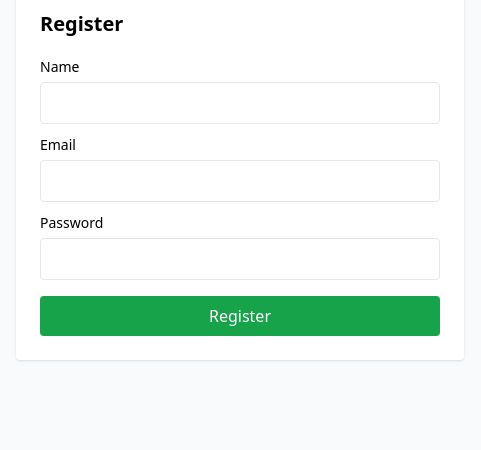
Register form validation › shows validation errors when fields are empty
Click the button "Register" at [240, 316], box [40,296,440,336]
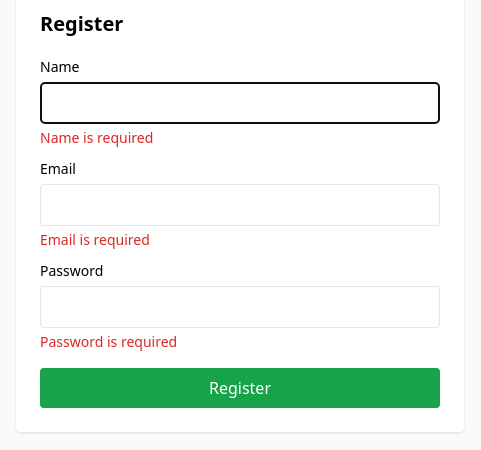
Check: the text "Name is required" is shown, box [40,128,153,147]
Check: the text "Email is required" is shown, box [40,230,150,249]
Check: the text "Password is required" is shown, box [40,332,177,351]
